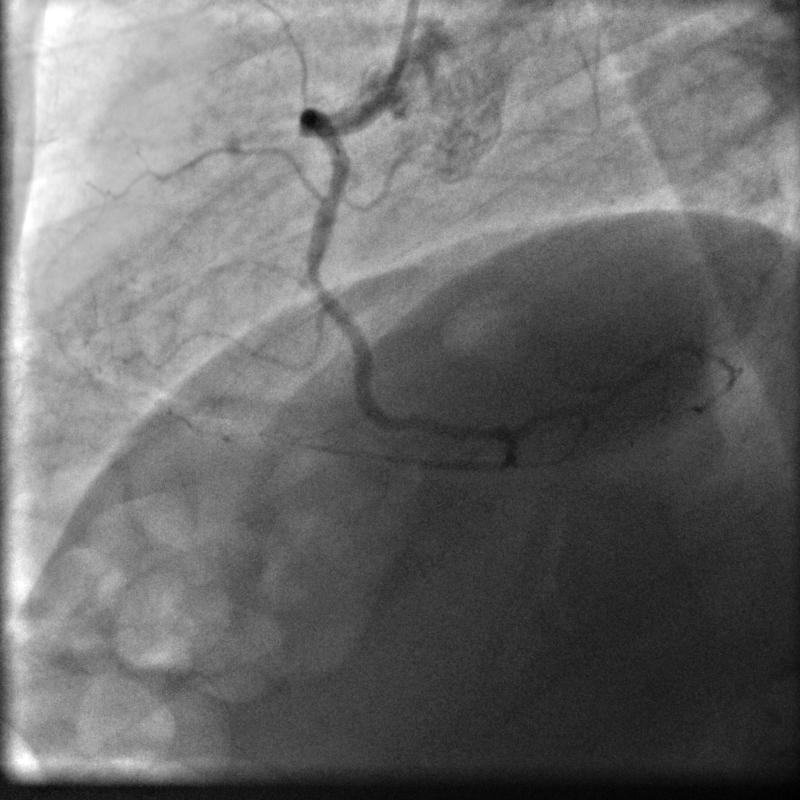Stenosis: (300, 268, 332, 291)
